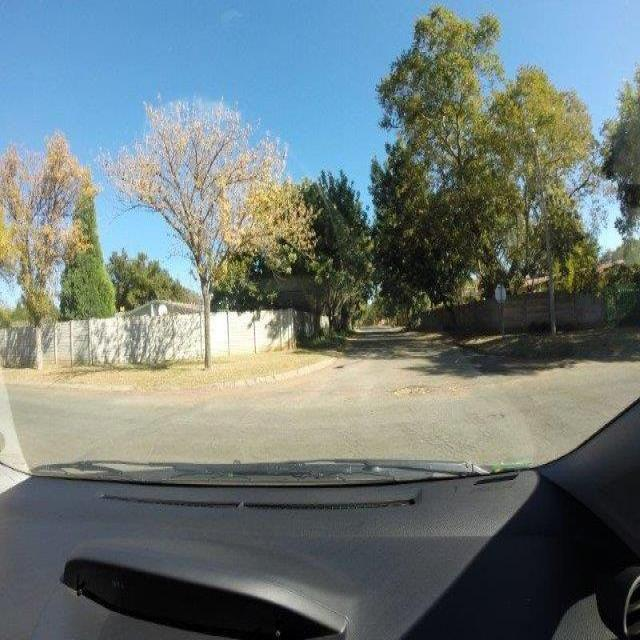lubang: (392, 382, 432, 398)
